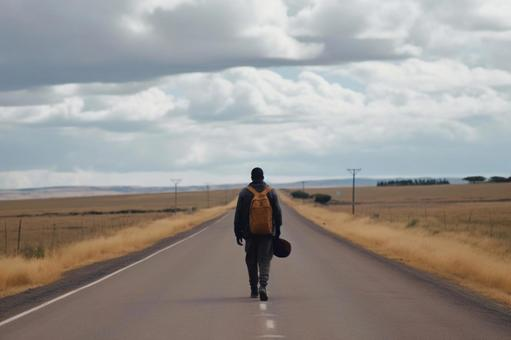Person: (228, 165, 299, 305)
